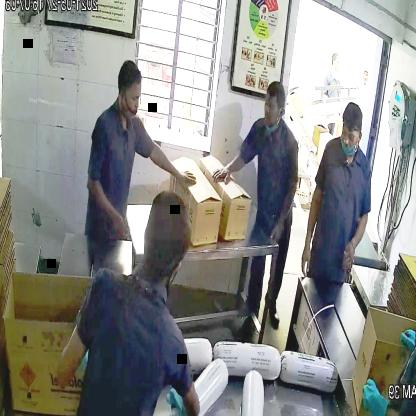no_goggles: (118, 86, 142, 110), (340, 125, 365, 148)
